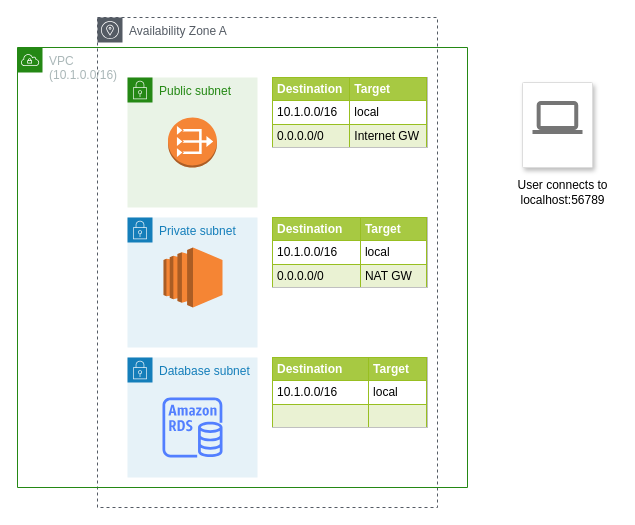
This 635x525 diagram has some shape labels left out. The centre of each missing label's shape, as x and y in pixels:
"EC2 jump host (SSM agent installed)" goes at point 192,277.
"Laptop" goes at point 558,126.
"MySQL db port 3306" goes at point 192,427.
"NAT Gateway" goes at point 192,142.
